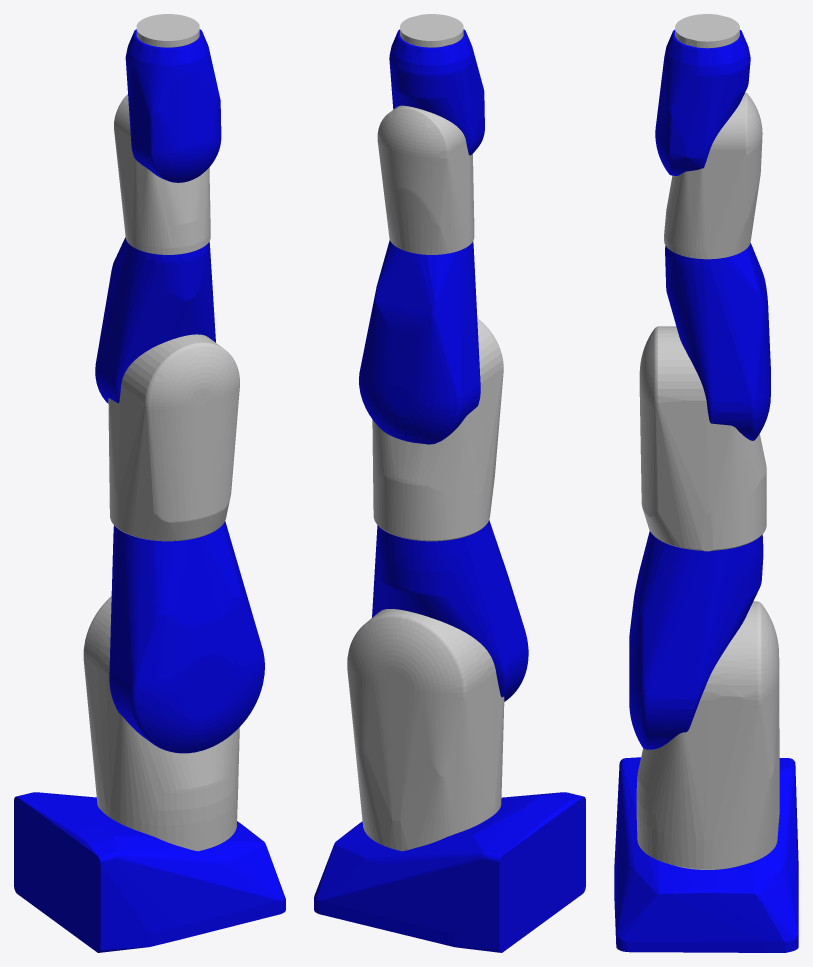
Rendered from sia20d.dae.
3 renders of one model, left to right at view 1: azimuth 30°, elevation 25°; view 2: azimuth 150°, elevation 25°; view 3: azimuth 270°, elevation 25°, orthographic.
Visible parts, largest first — view 1: base_link, link_l, link_e, link_s, link_b, link_u, link_r, link_t; view 2: link_s, base_link, link_u, link_e, link_l, link_r, link_b, link_t; view 3: link_s, base_link, link_e, link_l, link_u, link_r, link_b, link_t.
Part boxes in pixels (box(x1,y1,x2,y2)): base_link: box(14, 792, 285, 952); link_l: box(109, 521, 264, 753); link_e: box(108, 334, 239, 541); link_s: box(83, 596, 239, 851); link_b: box(125, 29, 221, 182); link_u: box(95, 237, 215, 403); link_r: box(114, 94, 210, 254); link_t: box(136, 14, 199, 47); link_s: box(347, 609, 504, 851); base_link: box(314, 792, 585, 952); link_u: box(359, 240, 480, 444); link_e: box(372, 318, 503, 541); link_l: box(372, 520, 528, 701); link_r: box(377, 105, 474, 254); link_b: box(389, 29, 484, 155); link_t: box(400, 14, 463, 47); link_s: box(636, 601, 779, 869); base_link: box(614, 757, 798, 952); link_e: box(639, 326, 766, 551); link_l: box(629, 531, 763, 749); link_u: box(665, 243, 770, 440); link_r: box(664, 92, 762, 259); link_b: box(655, 29, 750, 175); link_t: box(675, 14, 739, 48).
Bounding box in the file's own units: 0.343 × 0.283 × 1.5.
